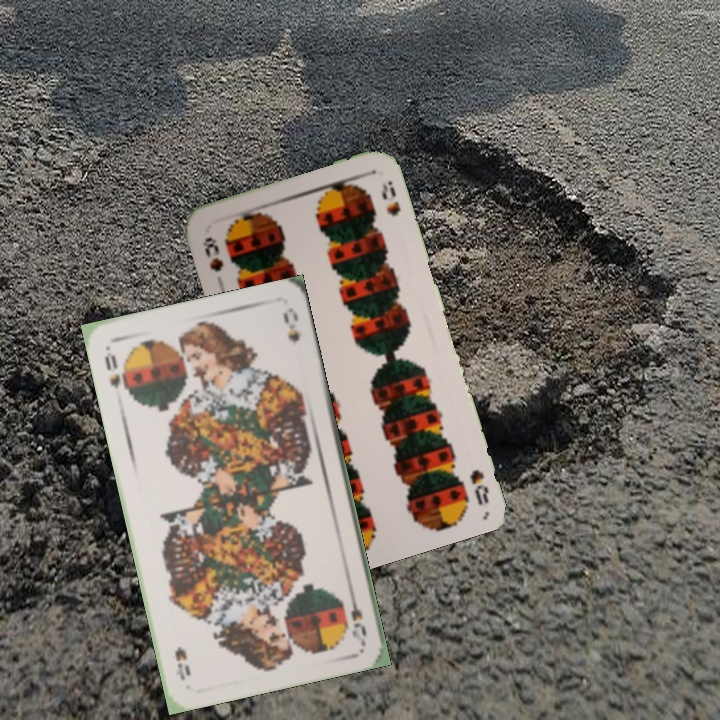S8: (198, 233, 226, 275), (465, 465, 491, 508)
SO: (100, 344, 130, 392), (345, 586, 369, 645)
